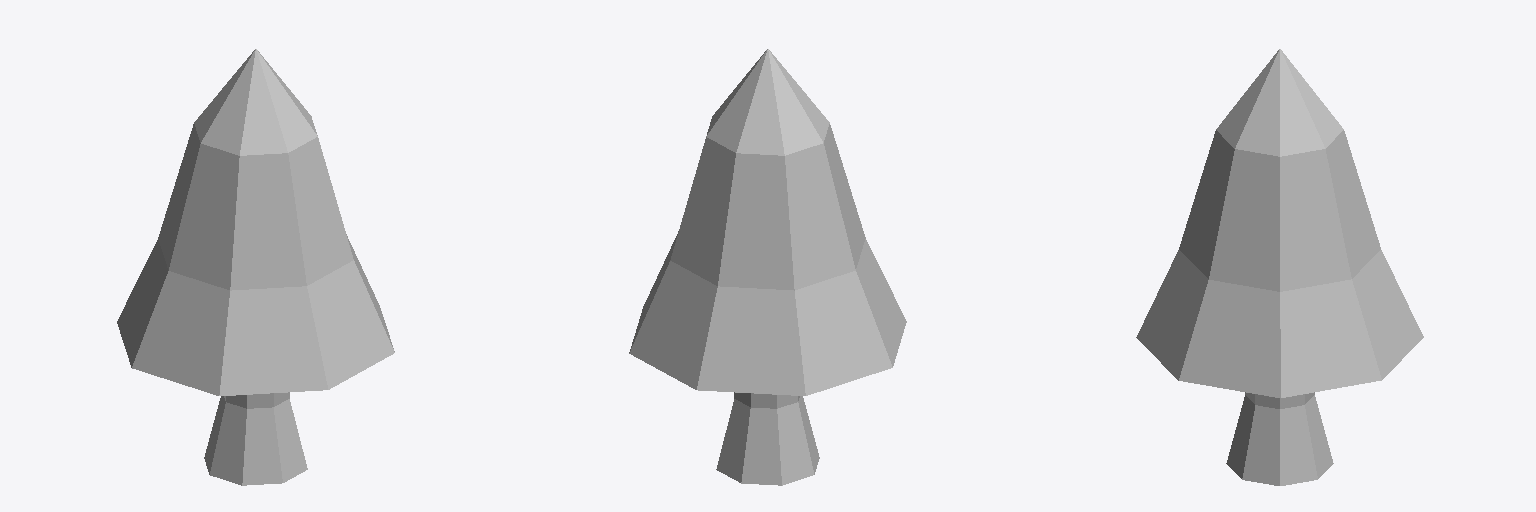
The model's file is mushroom10.obj.
3 views of the same model, side by side, from view 1: azimuth 30°, elevation 25°; view 2: azimuth 150°, elevation 25°; view 3: azimuth 270°, elevation 25° (orthographic).
Visible parts, largest first — view 1: Mushroom4_2_Cylinder.055; view 2: Mushroom4_2_Cylinder.055; view 3: Mushroom4_2_Cylinder.055.
Boxes of the visible parts, x1,y1,x2,y2 form: Mushroom4_2_Cylinder.055: [117, 49, 394, 485]; Mushroom4_2_Cylinder.055: [629, 49, 906, 485]; Mushroom4_2_Cylinder.055: [1136, 49, 1423, 485].
Bounding box in the file's own units: 0.8288 × 1.32 × 0.8288.